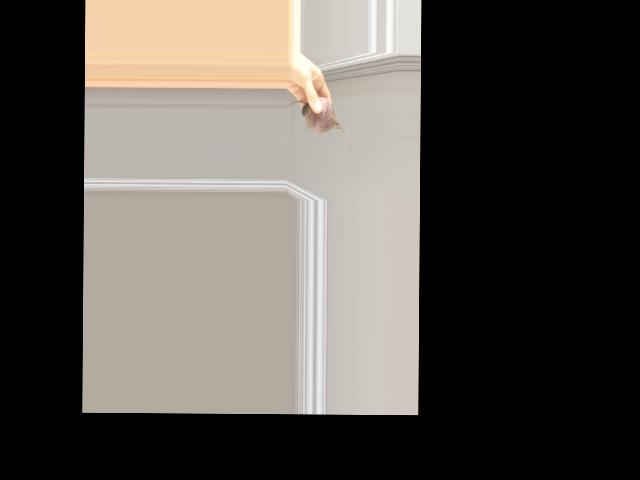beet: (285, 97, 351, 153)
